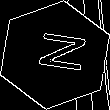N_W: (25, 31, 85, 79)
